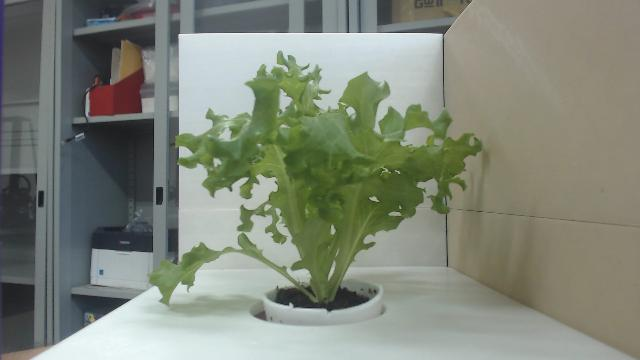Harvest Stage: (147, 51, 483, 307)
